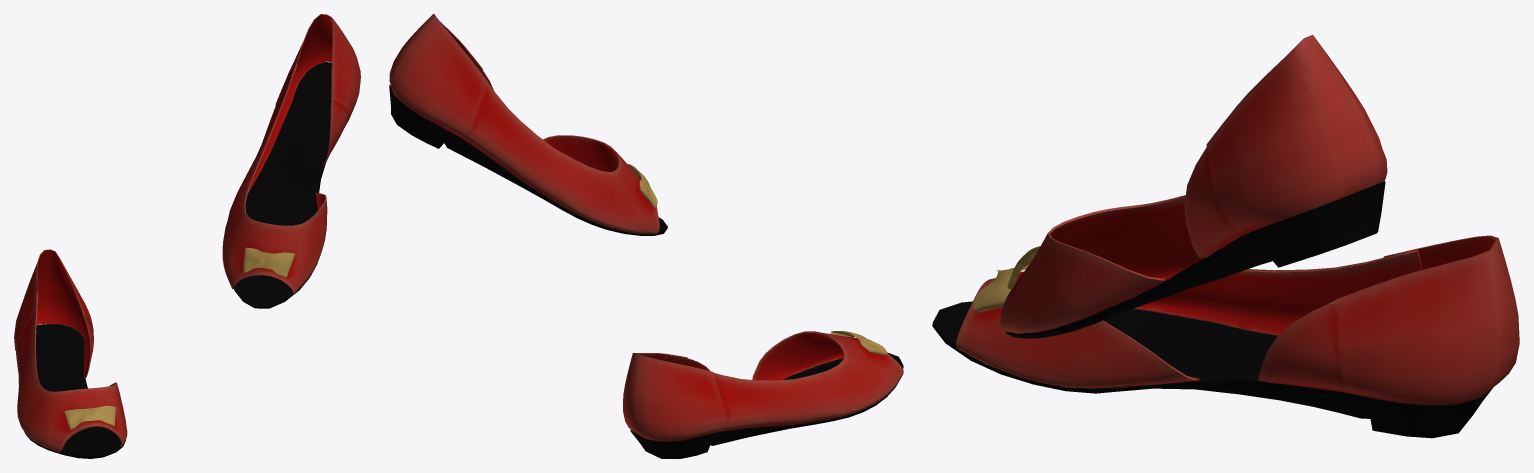
File: BellyK.fbx
3 views of the same model, side by side, from view 1: azimuth 30°, elevation 25°; view 2: azimuth 150°, elevation 25°; view 3: azimuth 270°, elevation 25° (orthographic). The views are drawn at different scales.
Parts seen in each view (by area): view 1: BellyK; view 2: BellyK; view 3: BellyK.
Boxes of the visible parts, left/top/right/bottom form: BellyK: left=14, top=14, right=360, bottom=458; BellyK: left=389, top=14, right=903, bottom=458; BellyK: left=932, top=35, right=1519, bottom=438.
Size of the model in its own units: 38.8 by 30.01 by 25.84.
